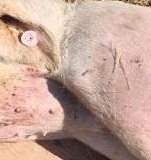text: (13, 21, 46, 56)
